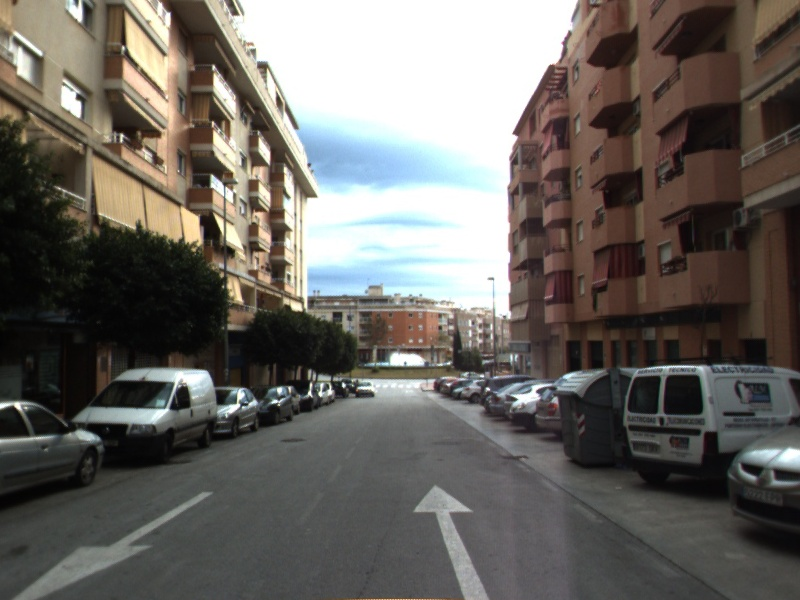STRAIGHT: (409, 480, 495, 600)
